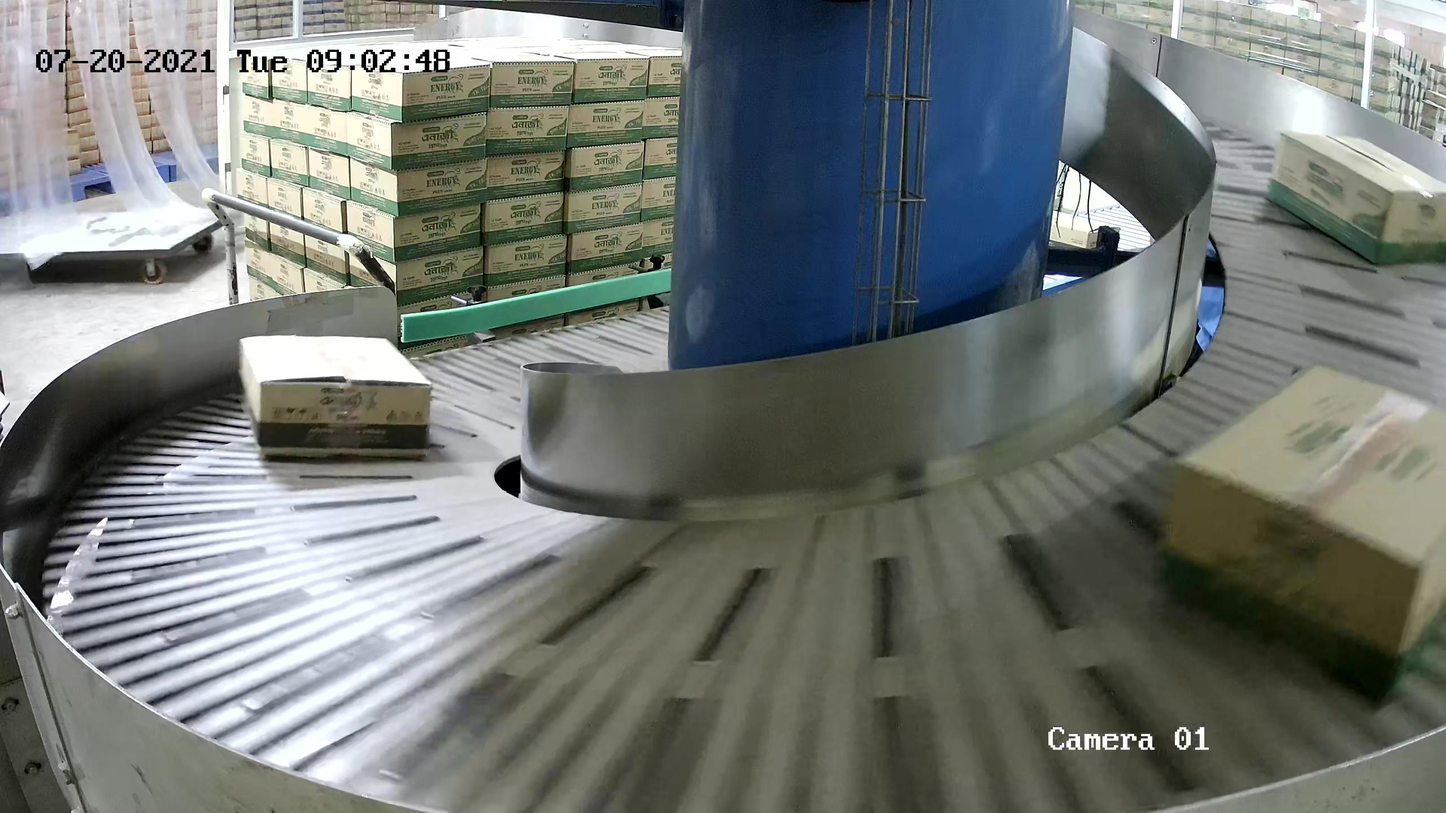Box: (1162, 360, 1446, 715), (235, 333, 436, 461), (1264, 128, 1446, 267)
